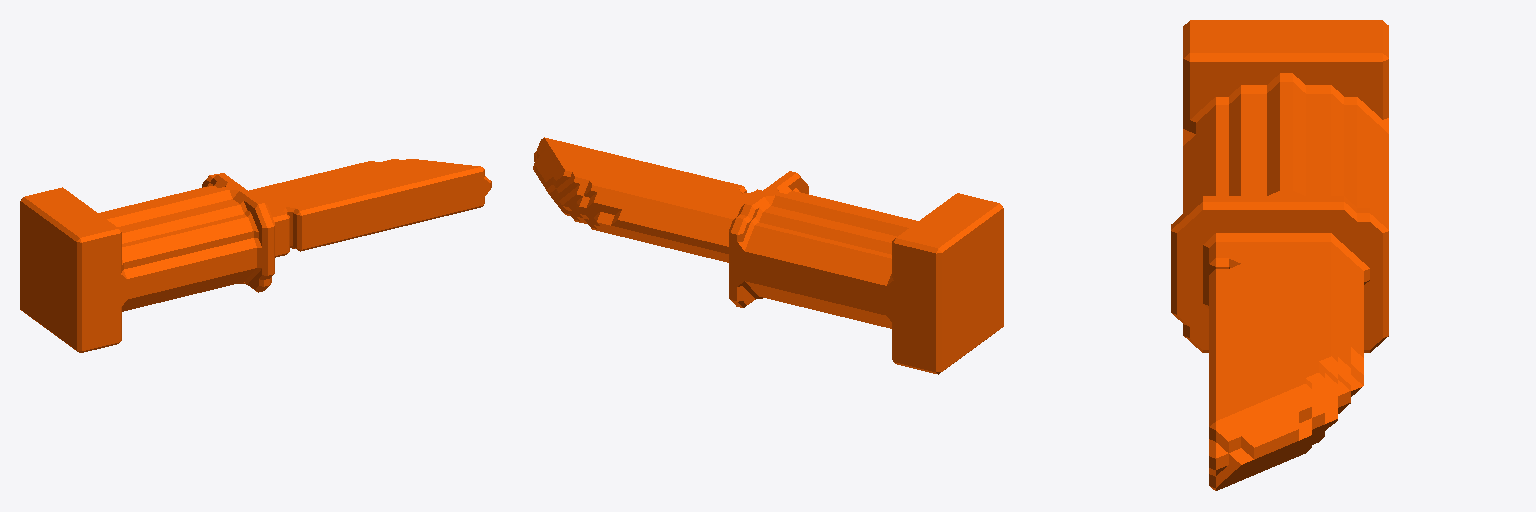
The robot description file, URDF, robot "Knife":
<robot name="Knife">
   <material name="obj_color">
      <color rgba="1.0 0.423529411765 0.0392156862745 1.0" />
   </material>
   <link name="top">
      <inertial>
         <origin rpy="4.878540434747968e-05 0.0004931542209389289 0.0005006665962110908" xyz="-0.007280072163482331 0.0005070953176695282 -0.0002624276531476826" />
         <mass value="0.24875" />
         <inertia ixx="4.92044102526061e-05" ixy="1.23303250335485e-05" ixz="-5.877925900057415e-06" iyy="0.0004928117910712141" iyz="1.793147792526764e-07" izz="0.0005005900201736792" />
      </inertial>
      <visual>
         <origin rpy="0 0 0" xyz="0 0 0" />
         <geometry>
            <mesh filename="top_watertight_tiny.stl" scale="1 1 1" />
         </geometry>
         <material name="obj_color" />
      </visual>
      <collision>
         <origin rpy="0 0 0" xyz="0 0 0" />
         <geometry>
            <mesh filename="top_watertight_tiny.obj" scale="1 1 1" />
         </geometry>
      </collision>
   </link>
   <link name="bottom">
      <inertial>
         <origin rpy="1.633333333194242e-08 1.633333333194243e-08 1.633333333357667e-08" xyz="0.3464080000000008 0.3464080000000008 0.3464080000000008" />
         <mass value="0.0009800000000000017" />
         <inertia ixx="1.633333333248717e-08" ixy="5.447480642029219e-19" ixz="5.447480642029219e-19" iyy="1.633333333248717e-08" iyz="5.447480642029219e-19" izz="1.633333333248717e-08" />
      </inertial>
      <visual>
         <origin rpy="0 0 0" xyz="0 0 0" />
         <geometry>
            <mesh filename="bottom_watertight_tiny.stl" scale="1 1 1" />
         </geometry>
         <material name="obj_color" />
      </visual>
   </link>
   <joint name="rotation" type="revolute">
      <origin xyz="0 0 0" />
      <axis xyz="0 0 -1" />
      <parent link="bottom" />
      <child link="top" />
      <dynamics damping="1.0" friction="1.0" />
      <limit effort="0.1" velocity="0.1" lower="0" upper="0.001" />
   </joint>
</robot>

--- Render facts (derived) ---
Views: 3 orthographic renders of the robot side by side, from view 1: azimuth 30°, elevation 25°; view 2: azimuth 150°, elevation 25°; view 3: azimuth 270°, elevation 25°.
Robot: Knife — 2 links, 1 joints (1 revolute); root link bottom; default pose: every joint at zero.
Links seen in each view (by area): view 1: top; view 2: top; view 3: top.
Link boxes in pixels (x1,y1,x2,y2): top: (20, 159, 491, 352); top: (533, 137, 1003, 374); top: (1171, 20, 1388, 490).
Bounding box of the posed robot: 0.1729 × 0.0452 × 0.0452 m (x, y, z).
1 mesh visuals loaded from 2 distinct referenced files (1 binary STL); not drawn: 1 (reference not matched to a file when rendering).